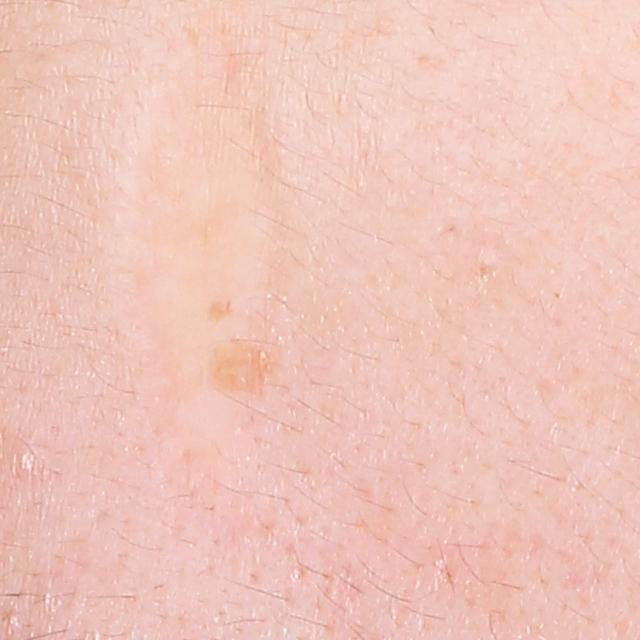comedo: (14, 453, 35, 475)
